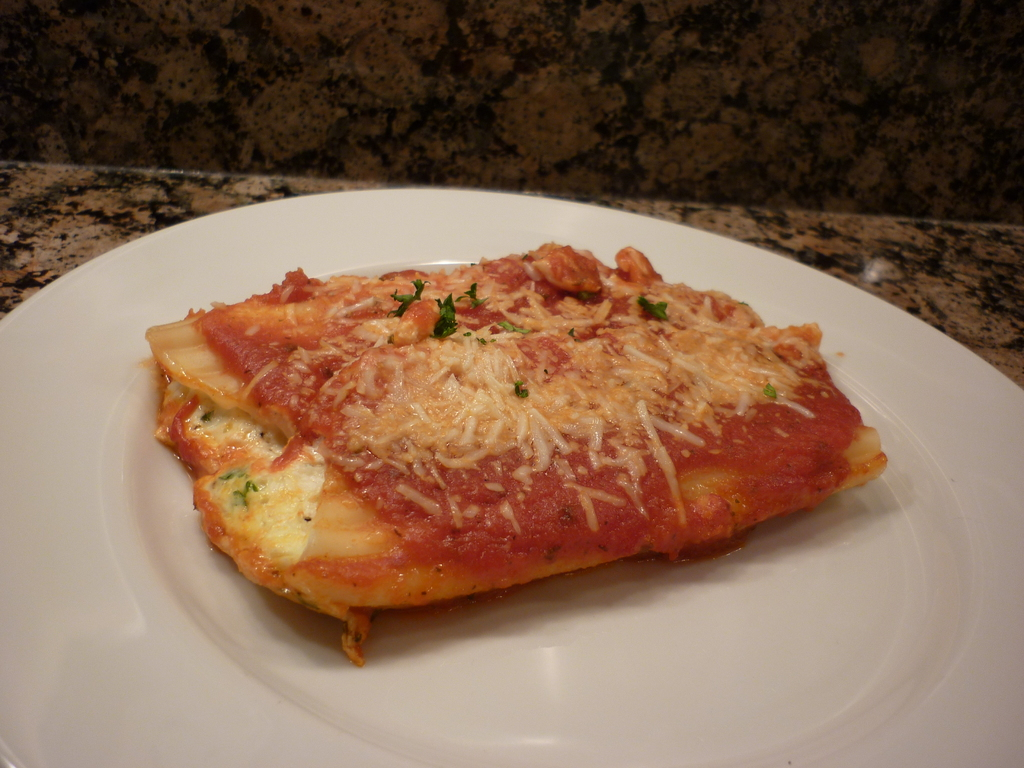Pizza: (165, 248, 849, 637)
